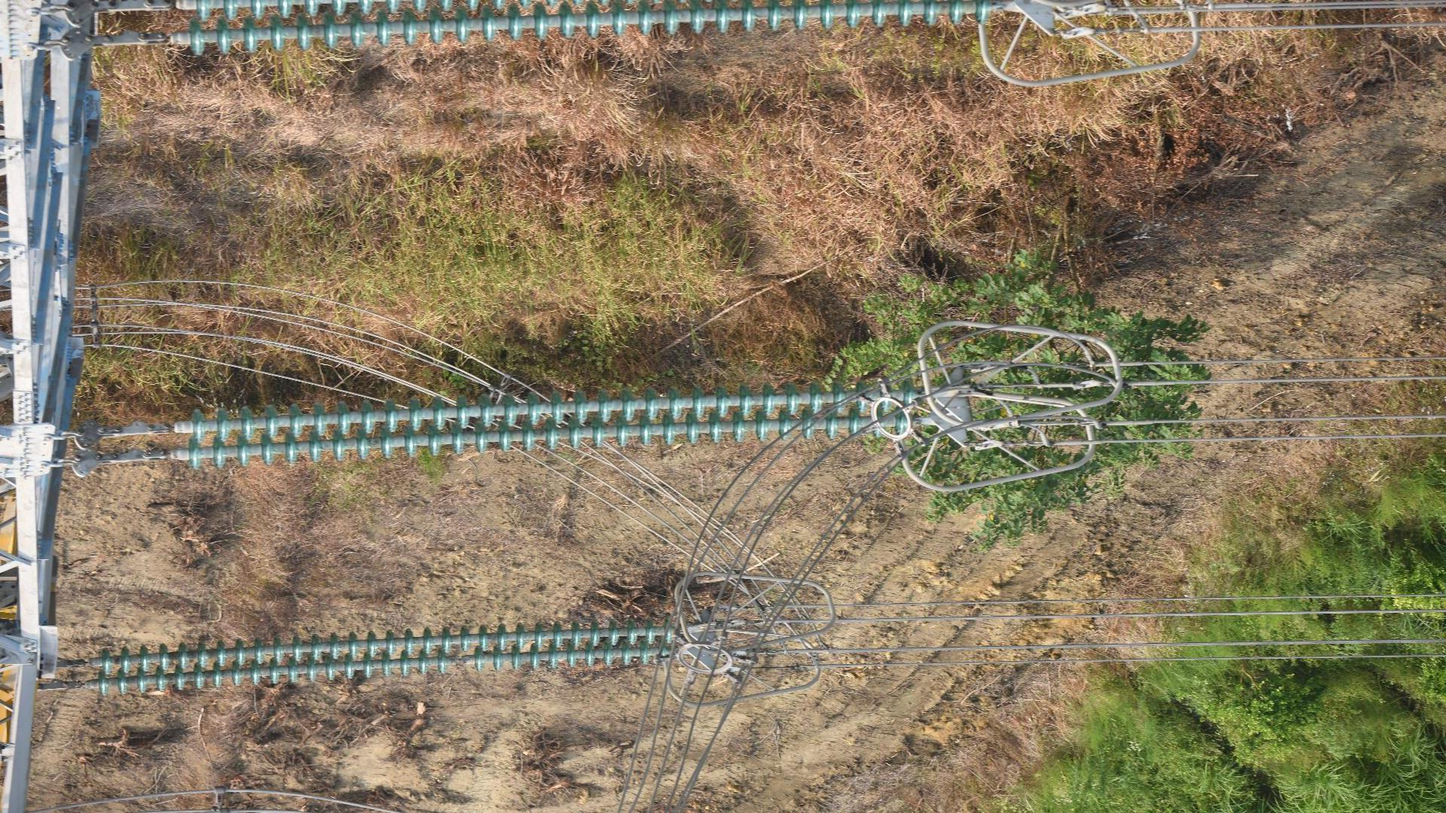insulator: (183, 374, 920, 476), (178, 1, 1001, 63), (94, 612, 676, 699)
insulator_stringdrop: (435, 644, 486, 677)
